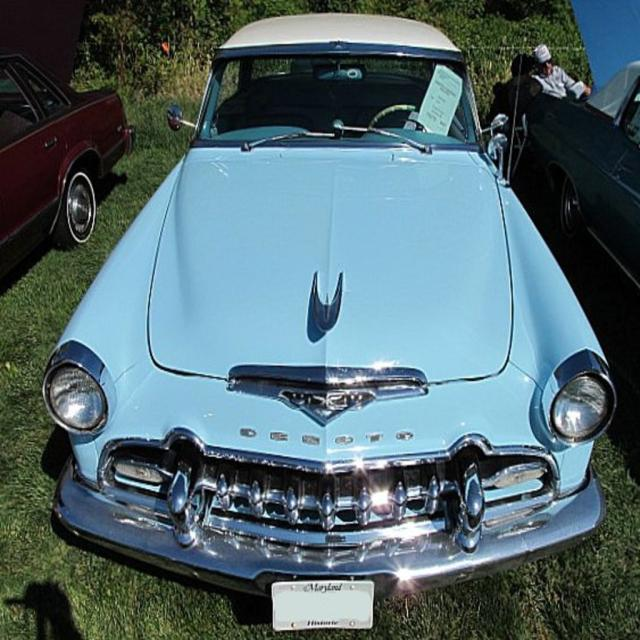car: (36, 3, 606, 624)
